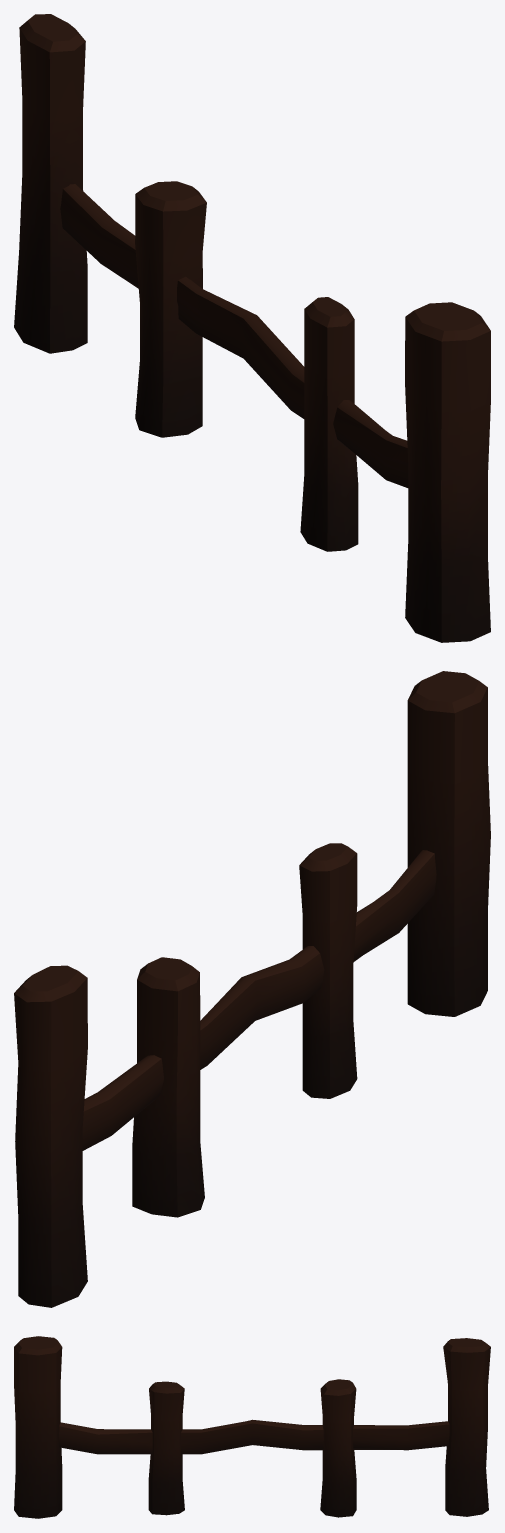
Rendered from Fence_2.fbx.
3 views of the same model, one above another, from view 1: azimuth 30°, elevation 25°; view 2: azimuth 150°, elevation 25°; view 3: azimuth 270°, elevation 25° (orthographic). The views are drawn at different scales.
Parts seen in each view (by area): view 1: Fence_2; view 2: Fence_2; view 3: Fence_2.
Part boxes in pixels (<box>): Fence_2: <box>14,14,490,642</box>; Fence_2: <box>14,671,490,1307</box>; Fence_2: <box>14,1336,490,1518</box>.
Bounding box in the file's own units: 49.63 × 215 × 556.
